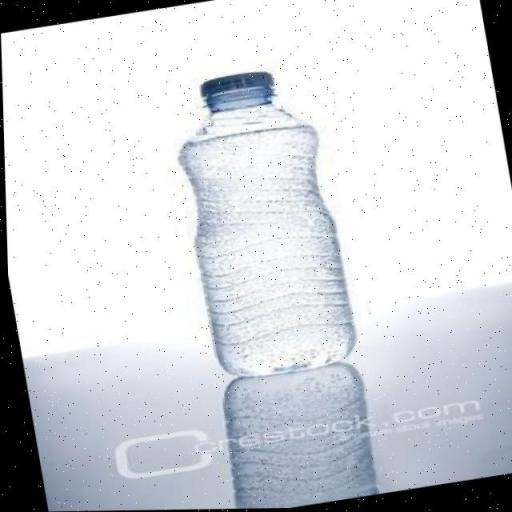plastic: (162, 59, 364, 383)
